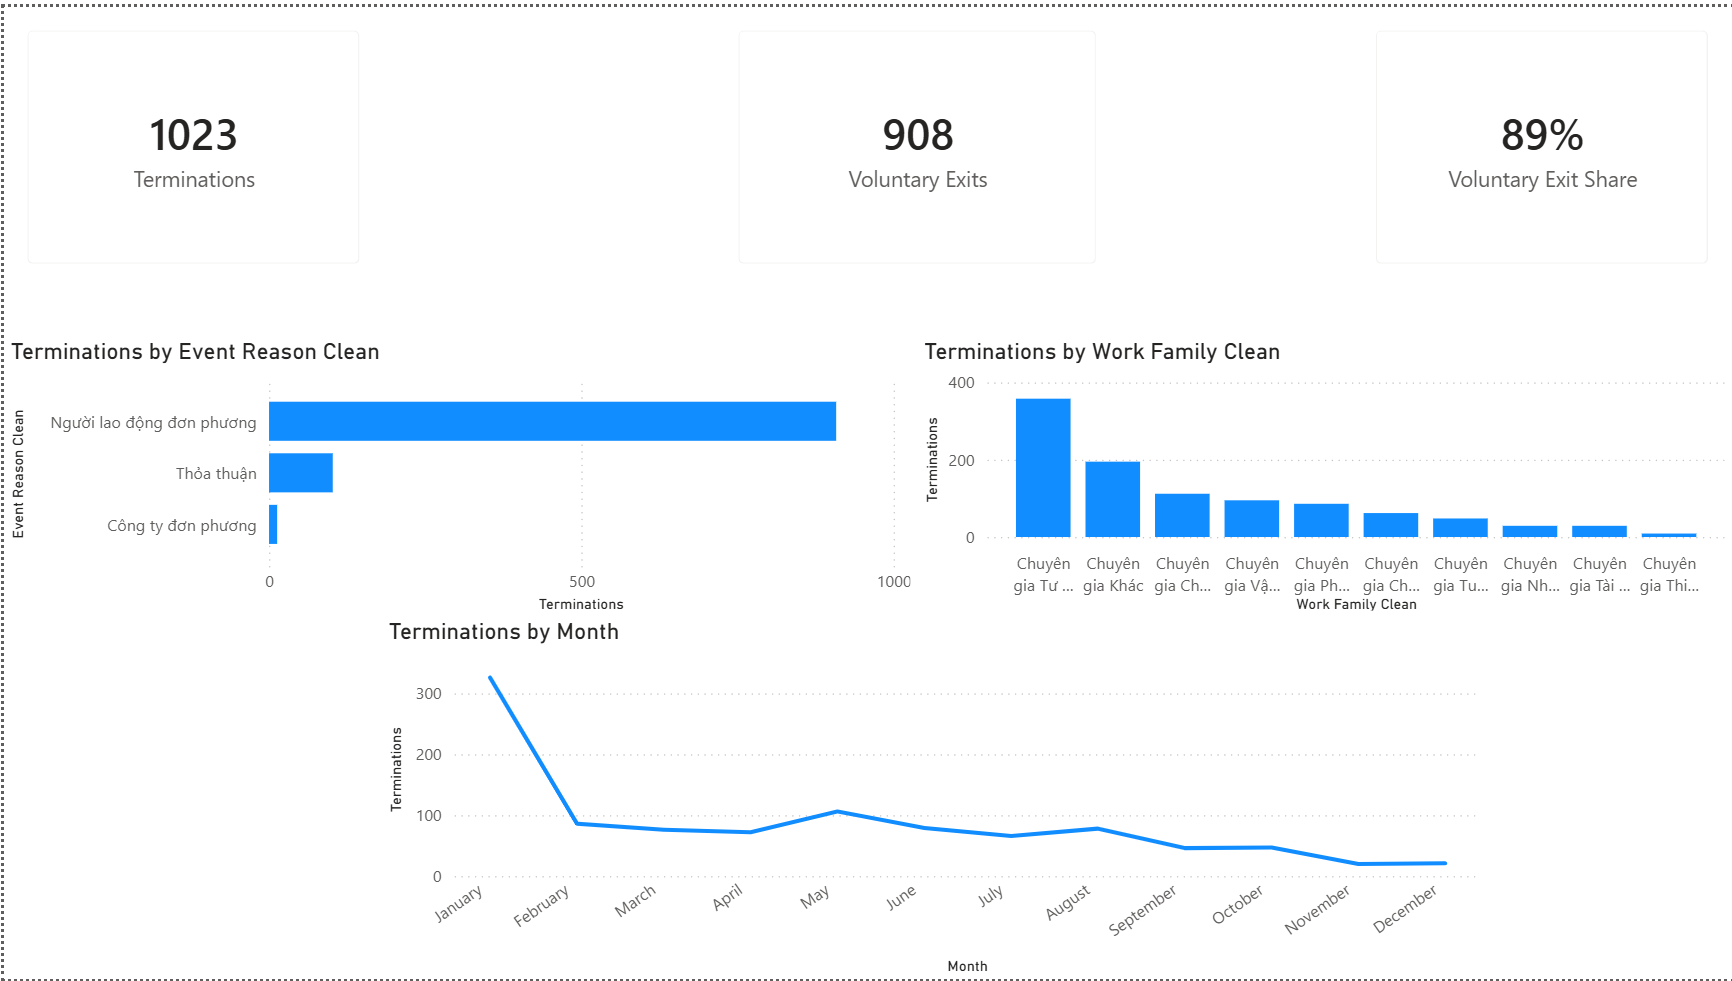

Layout of this report page (visuals, bound fields, positions):
{"tool":"powerbi","page":{"name":"Termination & Internal Mobility Analysis","canvas":[1280,720],"ordinal":1},"visuals":[{"type":"cardVisual","fields":{"Data":["HR_DATA.Terminations"]},"box":[0,0,280.3,207.8],"z":0},{"type":"cardVisual","fields":{"Data":["HR_DATA.Voluntary Exits"]},"box":[526.8,0,299.7,207.8],"z":1},{"type":"cardVisual","fields":{"Data":["HR_DATA.Voluntary Exit Share"]},"box":[999.3,0,280.3,207.8],"z":2},{"type":"clusteredBarChart","fields":{"Category":["HR_DATA.Event Reason Clean"],"Y":["HR_DATA.Terminations"]},"box":[0,244.1,676.7,207.8],"z":3},{"type":"lineChart","fields":{"Category":["HR_DATA.Event Date.Variation.Date Hierarchy.Month"],"Y":["HR_DATA.Terminations"]},"box":[280.3,451.9,818,268.2],"z":4},{"type":"clusteredColumnChart","fields":{"Y":["HR_DATA.Terminations"],"Category":["HR_DATA.Work Family Clean"]},"box":[676.7,244.1,602.9,207.8],"z":5}]}

Visuals, with their boxes in screenshot pixels (x1, y1, x2, y2), scaled from the page's 1280x720 canvas onto the 1732x981 screenshot:
cardVisual - HR_DATA.Terminations: select_region(0, 0, 379, 283)
cardVisual - HR_DATA.Voluntary Exits: select_region(713, 0, 1118, 283)
cardVisual - HR_DATA.Voluntary Exit Share: select_region(1352, 0, 1731, 283)
clusteredBarChart - HR_DATA.Event Reason Clean x HR_DATA.Terminations: select_region(0, 333, 916, 616)
lineChart - HR_DATA.Event Date.Variation.Date Hierarchy.Month x HR_DATA.Terminations: select_region(379, 616, 1486, 980)
clusteredColumnChart - HR_DATA.Terminations x HR_DATA.Work Family Clean: select_region(916, 333, 1731, 616)
